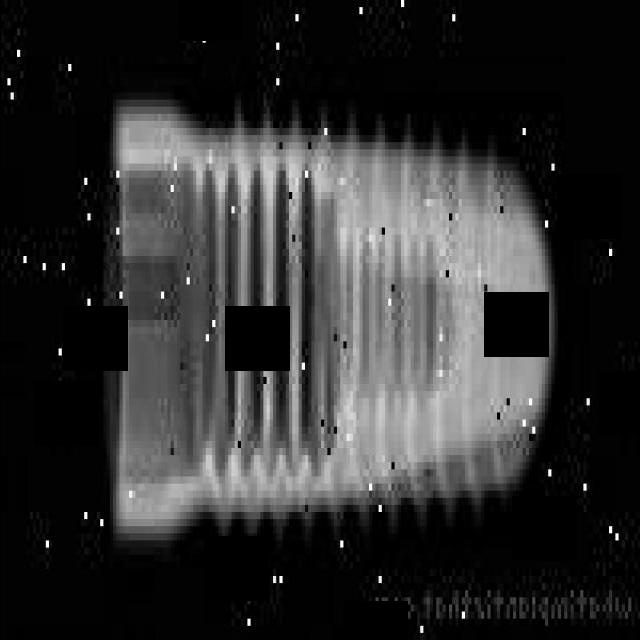Root canal obturation: (106, 92, 566, 548)
